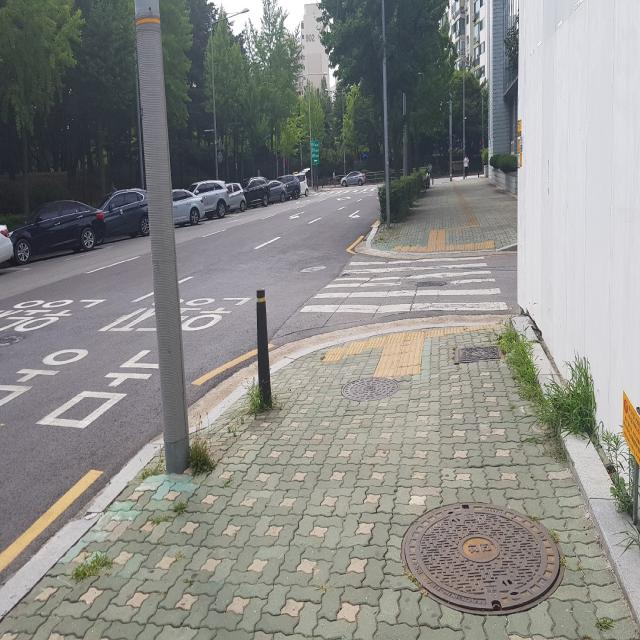횡단보도: (299, 255, 510, 315)
